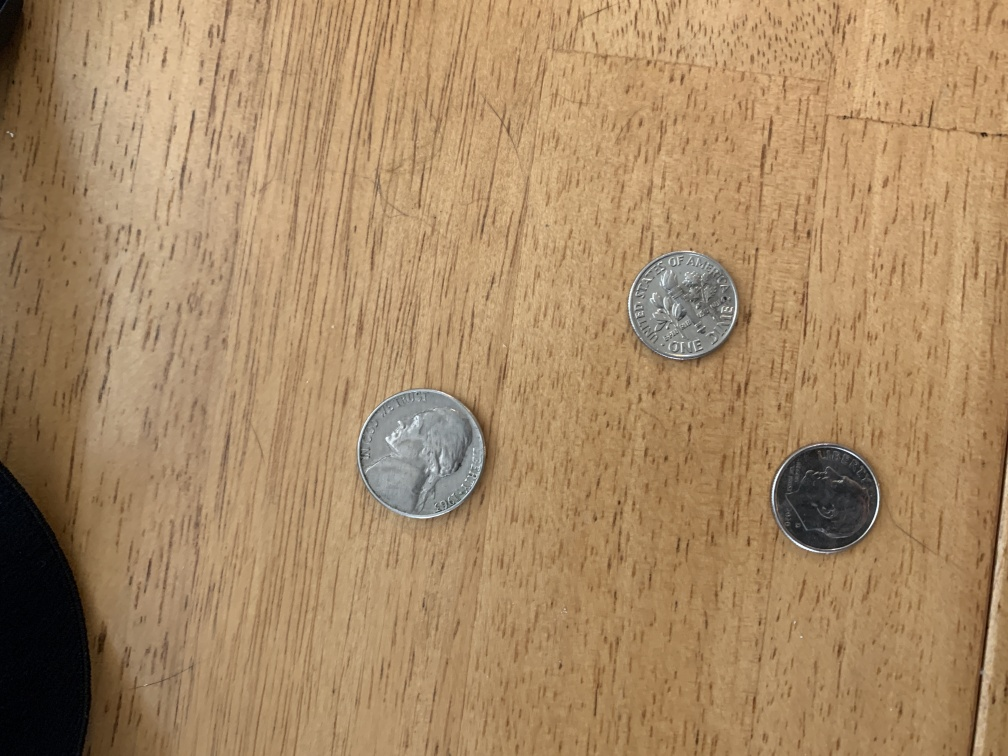dime: (765, 438, 886, 561), (625, 247, 742, 367)
nickel: (353, 384, 492, 527)
